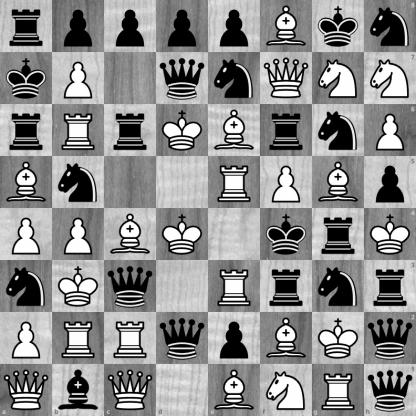B: (209, 364, 260, 416), (1, 157, 52, 208), (105, 209, 156, 260), (209, 105, 260, 156), (261, 1, 312, 52), (261, 313, 312, 364), (313, 157, 364, 208)
K: (364, 209, 416, 260), (53, 261, 104, 312), (157, 105, 208, 156), (157, 209, 208, 260), (313, 313, 364, 364)
N: (260, 364, 312, 416), (364, 52, 416, 104), (313, 53, 364, 104)
P: (364, 104, 416, 156), (1, 209, 52, 260), (1, 313, 52, 364), (53, 53, 104, 104), (53, 209, 104, 260), (261, 157, 312, 208)
Q: (0, 364, 52, 416), (104, 364, 156, 416), (261, 53, 312, 104)
R: (312, 364, 364, 416), (53, 105, 104, 156), (53, 313, 104, 364), (105, 313, 156, 364), (209, 157, 260, 208), (209, 261, 260, 312)
b: (52, 364, 104, 416)
board: (0, 0, 415, 415)
k: (1, 53, 52, 104), (261, 209, 312, 260), (313, 1, 364, 52)
n: (364, 0, 416, 52), (1, 261, 52, 312), (53, 157, 104, 208), (209, 53, 260, 104), (313, 105, 364, 156), (313, 261, 364, 312)
p: (364, 156, 416, 209), (53, 1, 104, 52), (105, 1, 156, 52), (157, 1, 208, 52), (209, 1, 260, 52), (209, 313, 260, 364)
q: (364, 312, 416, 364), (364, 364, 416, 416), (105, 261, 156, 312), (157, 53, 208, 104), (157, 313, 208, 364)
r: (364, 260, 416, 312), (1, 1, 52, 52), (1, 105, 52, 156), (105, 105, 156, 156), (261, 105, 312, 156), (261, 261, 312, 312), (313, 209, 364, 260)
